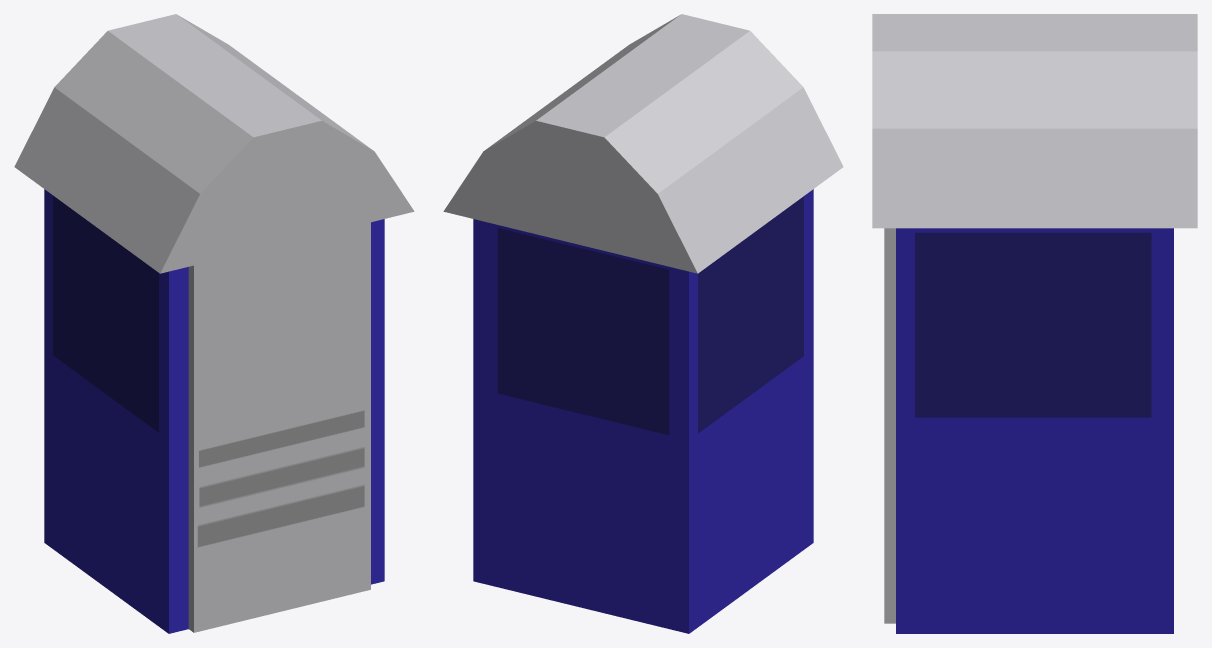
Rendered from building_scavengerpost.fbx.
3 views of the same model, side by side, from view 1: azimuth 30°, elevation 25°; view 2: azimuth 150°, elevation 25°; view 3: azimuth 270°, elevation 25° (orthographic). The views are drawn at different scales.
Parts seen in each view (by area): view 1: Scavenger; view 2: Scavenger; view 3: Scavenger.
Part boxes in pixels (box(x1,y1,x2,y2)): Scavenger: box(14, 14, 414, 633); Scavenger: box(443, 14, 843, 633); Scavenger: box(872, 14, 1197, 633).
Bounding box in the file's own units: 14.15 × 25.82 × 14.04.
1 material, 1 textured.
